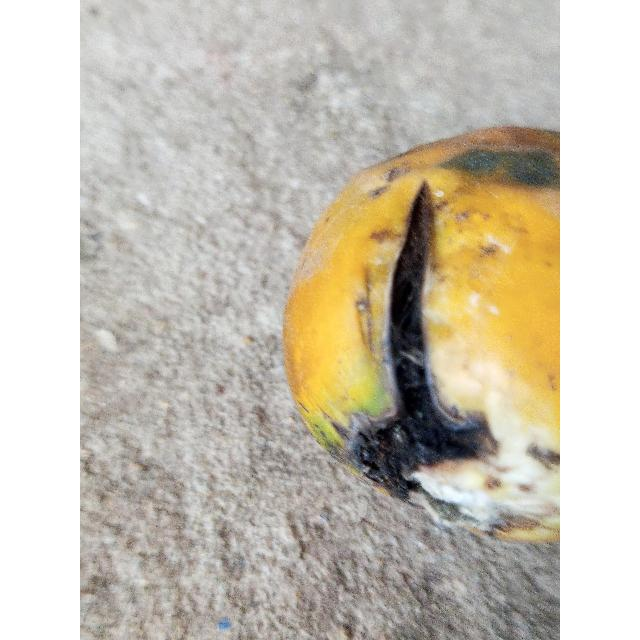damaged: (281, 126, 560, 548)
